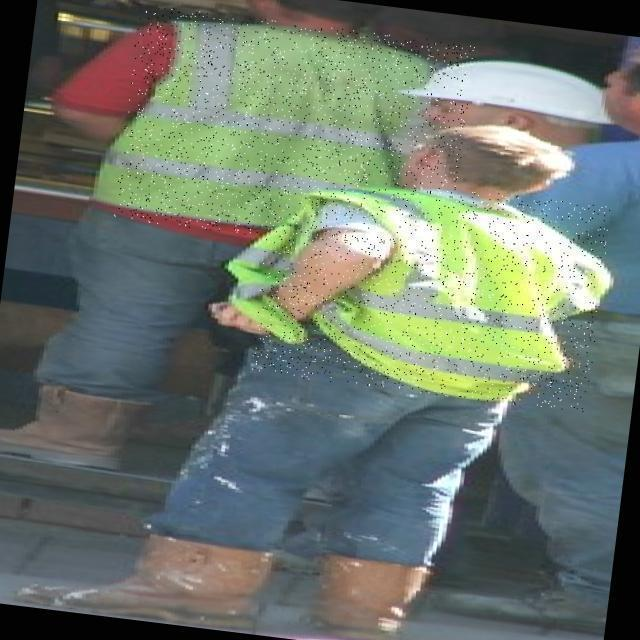safety_helmet: (294, 132, 430, 289)
